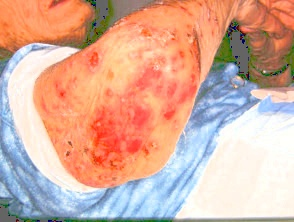SJS-TEN: (1, 0, 294, 222), (0, 6, 55, 56)
